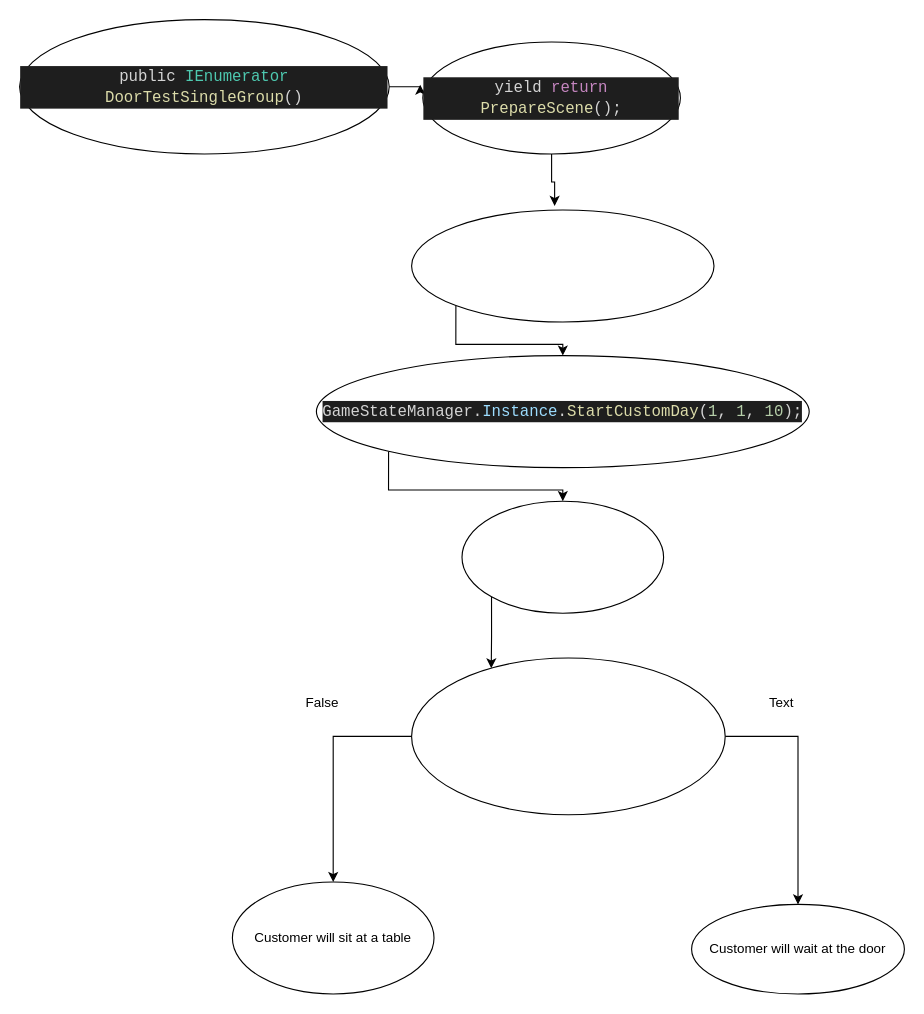
Image size: 924x1014. Some labels were removed from this diagram. The centre of each missing label's shape, as x and y in pixels:
"Assert. IsEmpty ( door . GroupList );" belongs at point (567, 736).
"var door = DoorPoint . Instance ;" belongs at point (562, 265).
"yield return null ;" belongs at point (562, 556).
